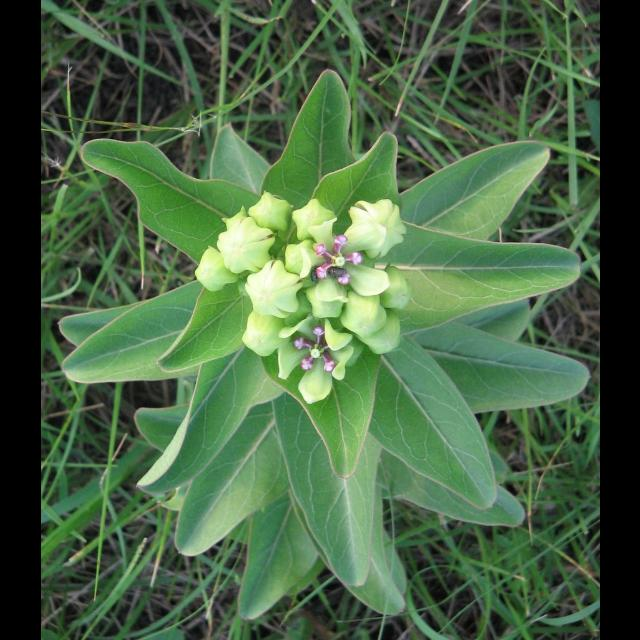Flower: (316, 229, 366, 289), (290, 326, 338, 374)
